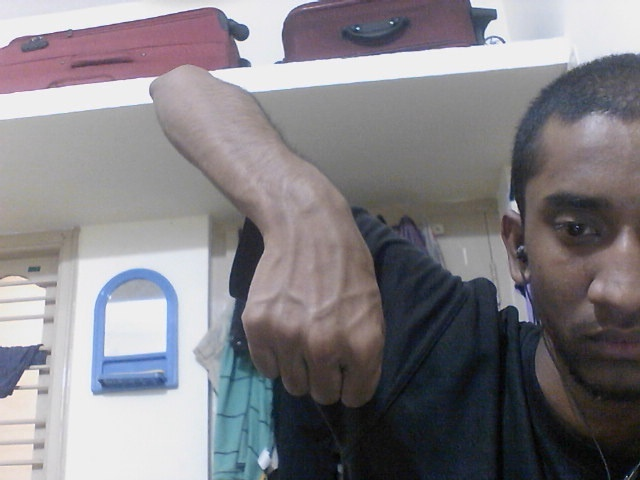hand: (237, 210, 392, 412)
